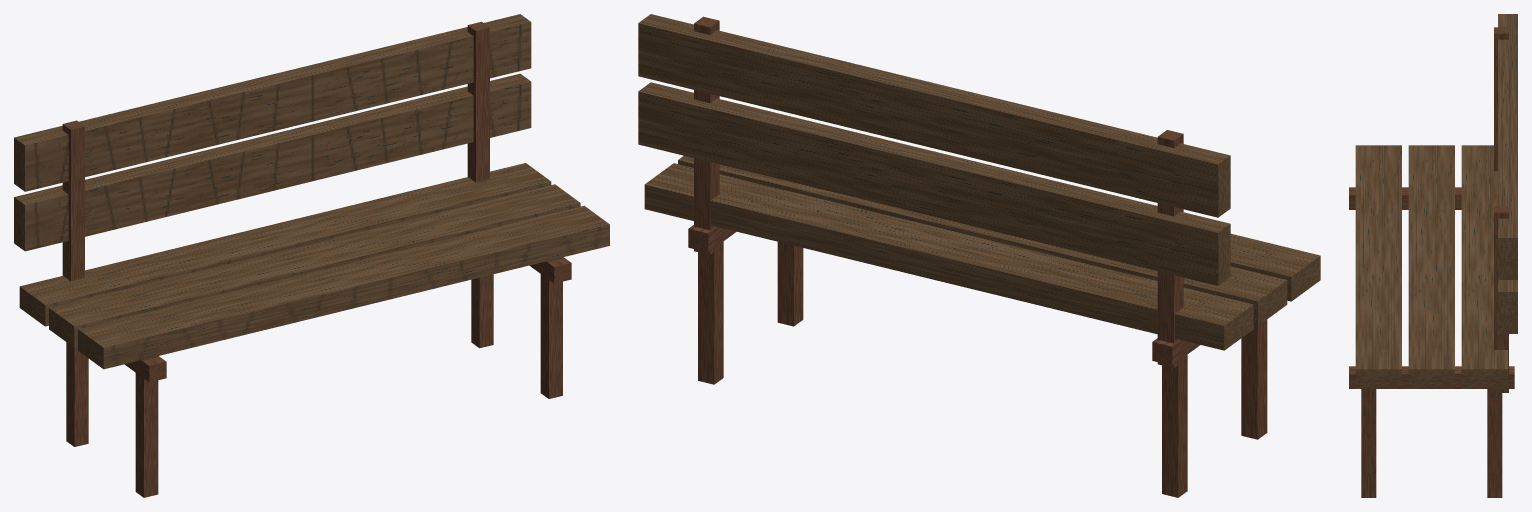
File: Bench.glb
The picture shows the model from 3 angles, left to right: view 1: azimuth 30°, elevation 25°; view 2: azimuth 150°, elevation 25°; view 3: azimuth 270°, elevation 25°; orthographic projection. The views are drawn at different scales.
Parts seen in each view (by area): view 1: Bench; view 2: Bench; view 3: Bench.
Boxes of the visible parts, x1=… form: Bench: x1=14, y1=14, x2=609, y2=497; Bench: x1=638, y1=14, x2=1320, y2=497; Bench: x1=1349, y1=14, x2=1517, y2=497.
Bounding box in the file's own units: 1.6 × 0.95 × 0.51.
Materials: 2 (2 with a texture image).
